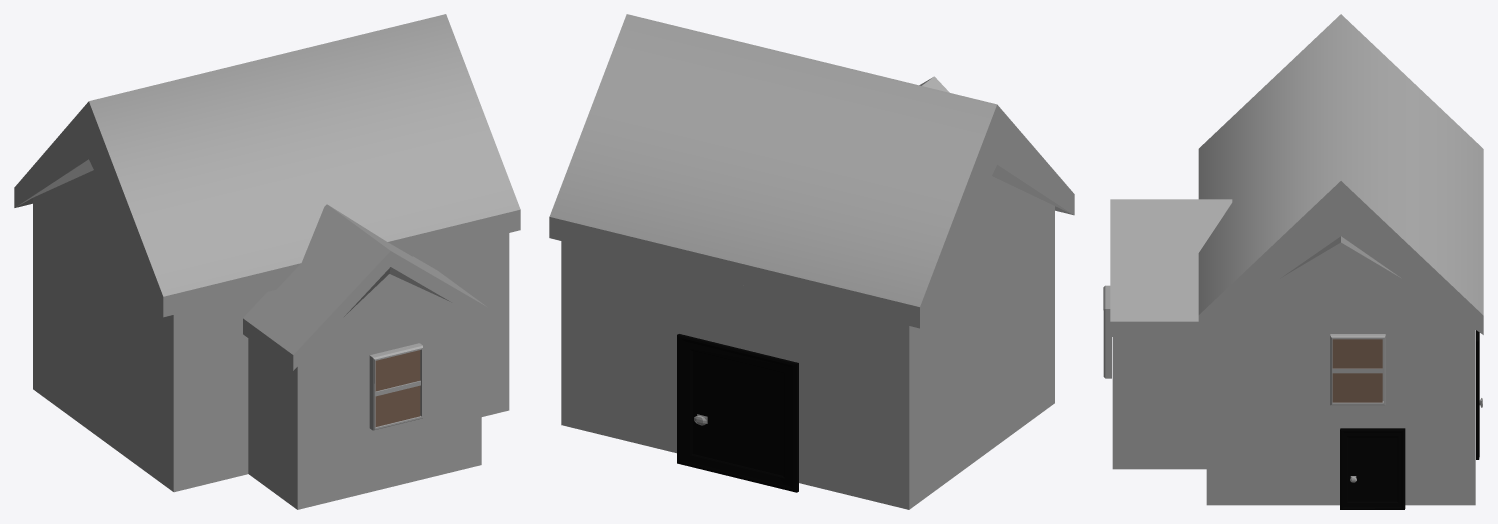
File: House3.fbx
The picture shows the model from 3 angles, left to right: view 1: azimuth 30°, elevation 25°; view 2: azimuth 150°, elevation 25°; view 3: azimuth 270°, elevation 25°; orthographic projection. The views are drawn at different scales.
Visible parts, largest first — view 1: pCube249, pCube250, polySurface598; view 2: pCube249, pSphere33; view 3: pCube249, pCube250, pSphere32, polySurface599, polySurface598, pSphere33.
Part boxes in pixels (box(x1,y1,x2,y2)): pCube249: box(14, 14, 520, 492); pCube250: box(243, 204, 488, 509); polySurface598: box(369, 343, 422, 430); pCube249: box(549, 14, 1074, 509); pSphere33: box(677, 334, 798, 492); pCube249: box(1198, 14, 1483, 505); pCube250: box(1110, 199, 1232, 469); pSphere32: box(1340, 428, 1405, 509); polySurface599: box(1330, 334, 1385, 405); polySurface598: box(1103, 285, 1111, 378); pSphere33: box(1476, 330, 1482, 459).
Bounding box in the file's own units: 141 × 133 × 136.
